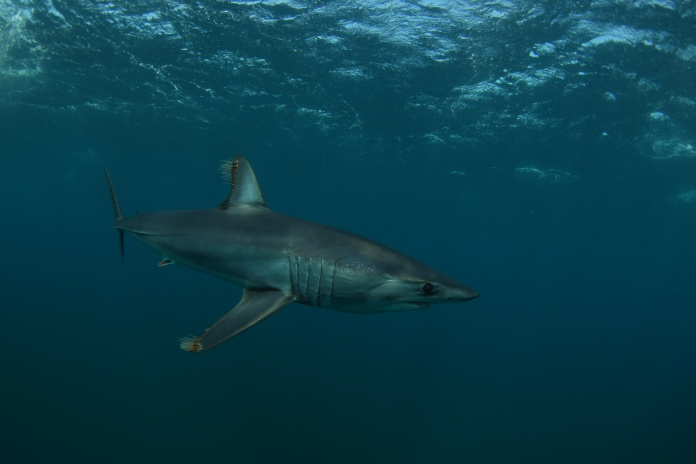Mako: (84, 152, 512, 358)
